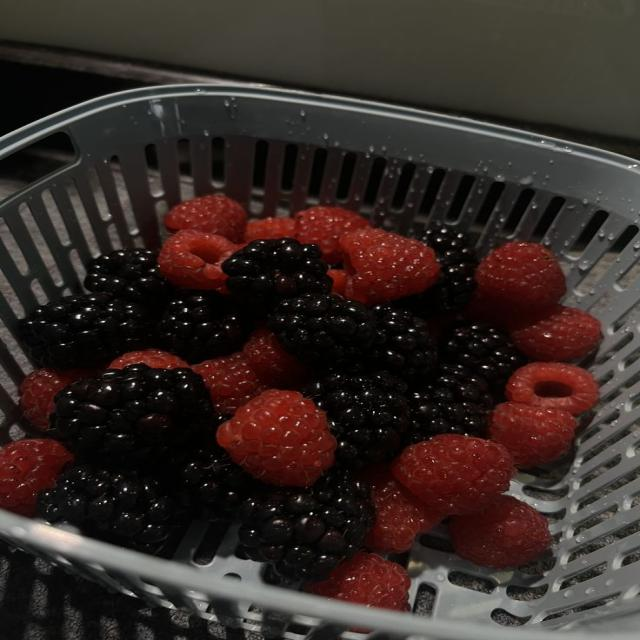raspberry: (48, 365, 216, 468), (239, 468, 373, 581), (39, 465, 185, 550), (217, 389, 336, 486), (20, 293, 154, 368), (306, 372, 408, 469), (392, 434, 514, 514), (222, 238, 332, 314), (268, 295, 378, 369), (448, 496, 550, 569), (340, 229, 439, 303), (403, 364, 493, 444), (398, 227, 477, 317), (171, 440, 257, 521), (363, 466, 442, 553), (157, 291, 252, 362), (440, 323, 526, 398), (306, 552, 410, 611), (488, 402, 577, 468), (476, 243, 566, 308), (0, 439, 73, 516), (370, 305, 436, 384), (85, 249, 173, 307), (510, 305, 600, 361), (159, 230, 237, 291), (506, 363, 599, 414), (20, 368, 95, 431), (192, 353, 268, 414), (294, 207, 370, 264), (242, 328, 308, 390), (164, 194, 246, 242), (461, 289, 530, 330), (107, 349, 188, 369), (245, 217, 294, 242), (327, 269, 346, 296)
